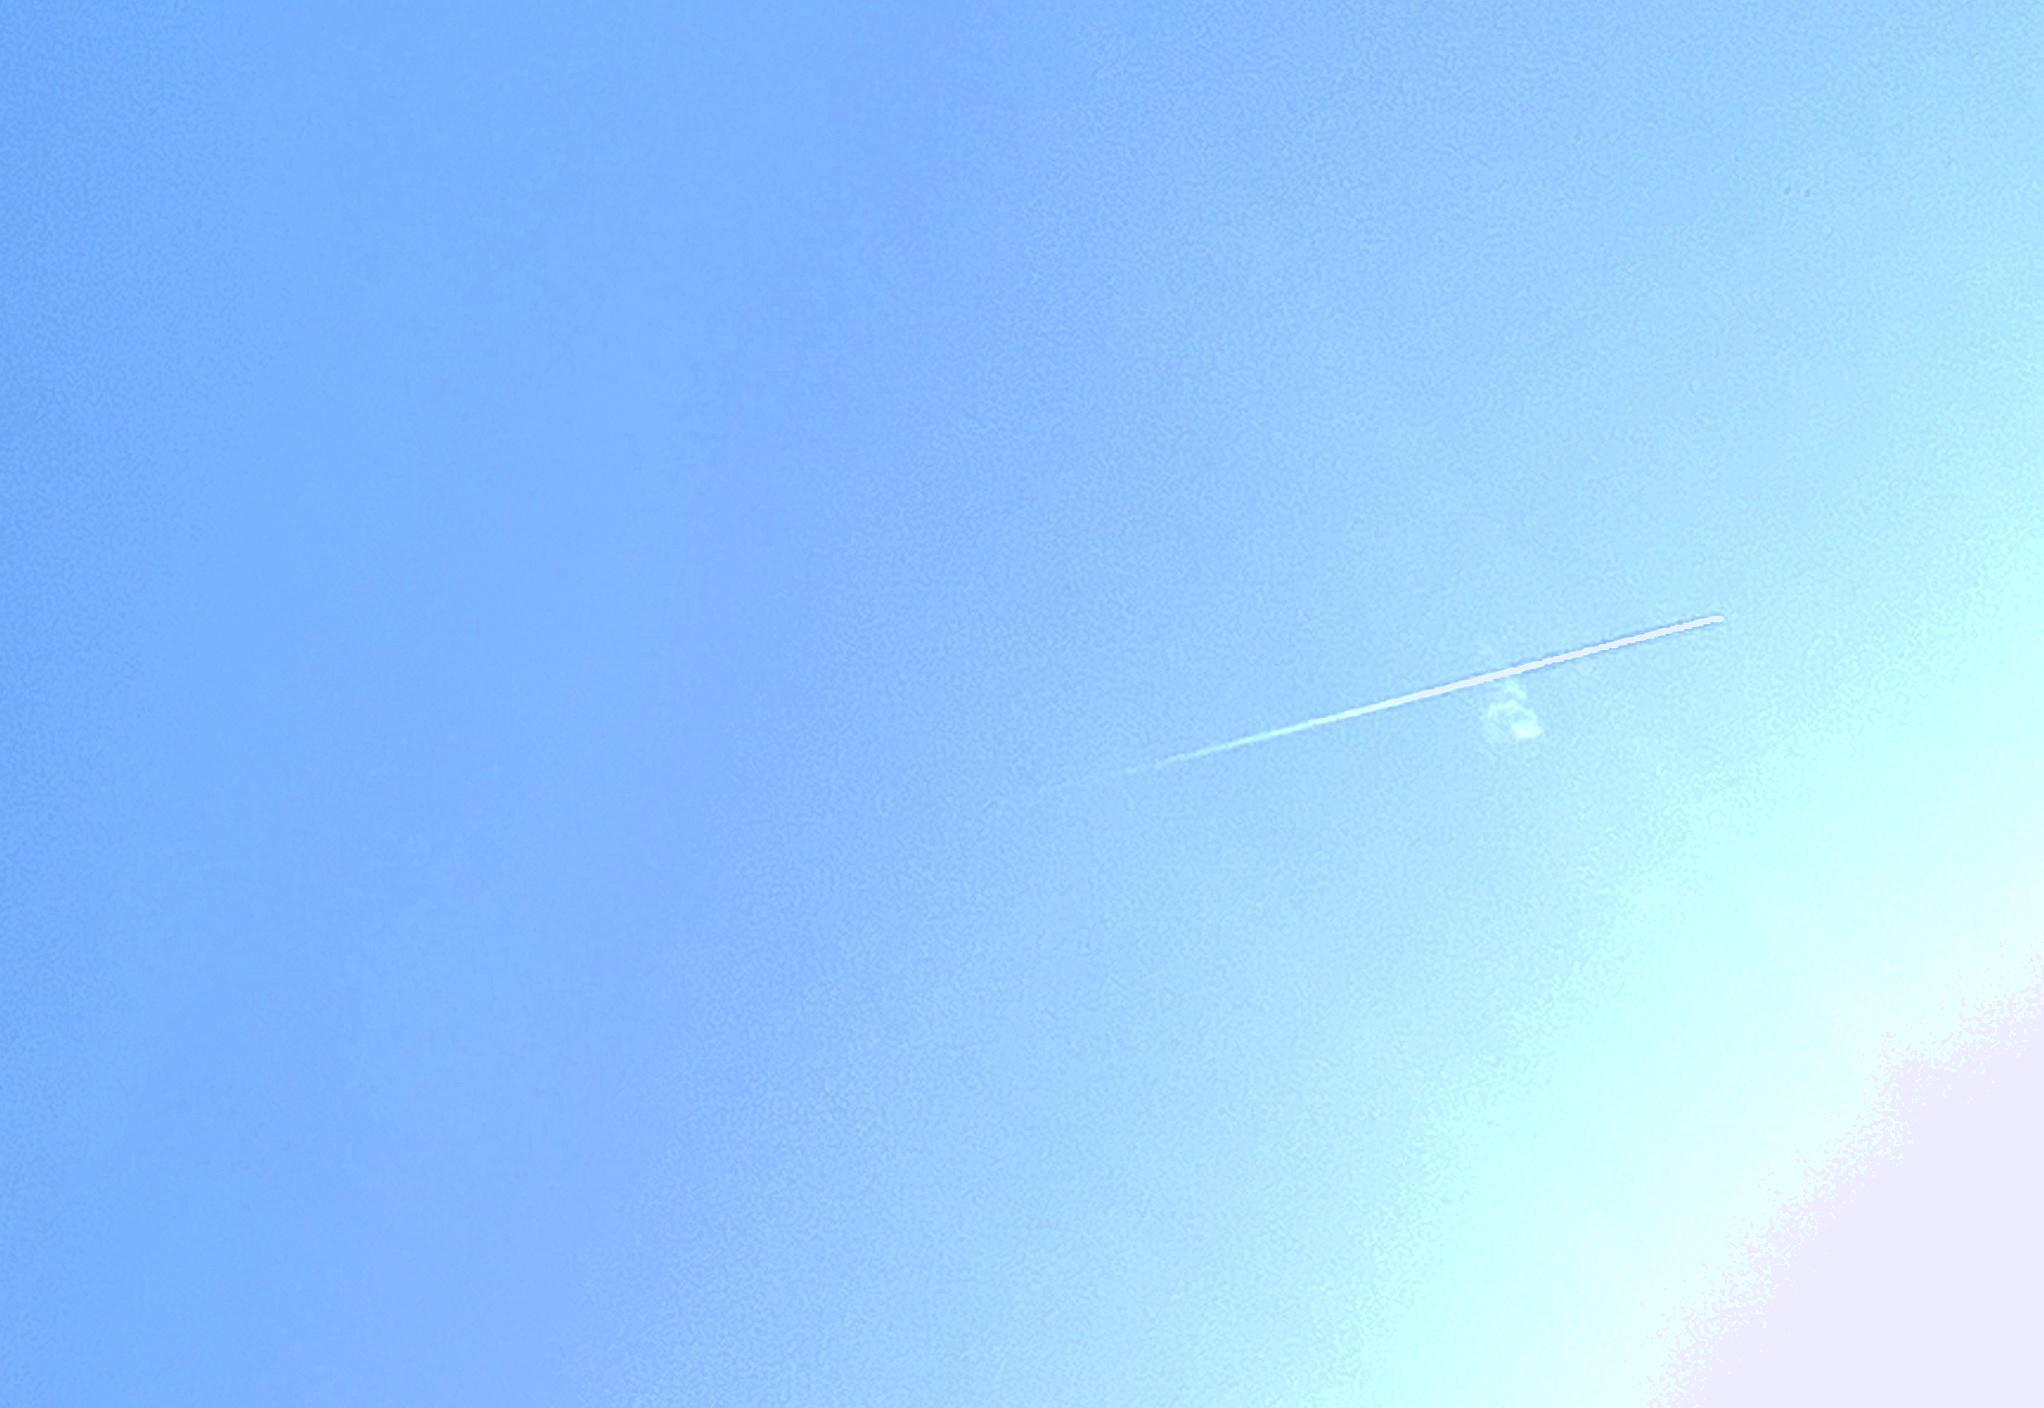Plane: (1093, 587, 1761, 782)
